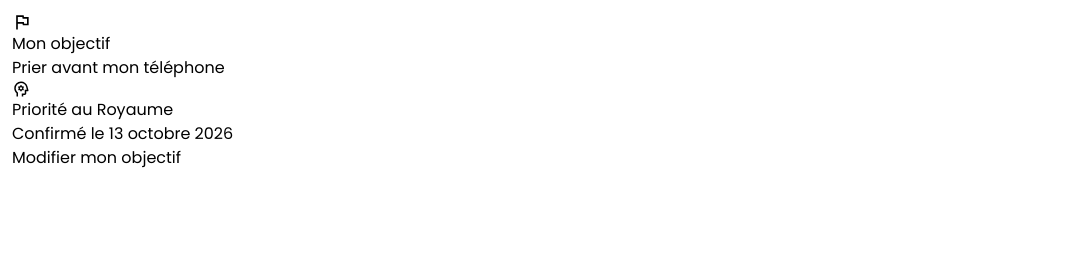
Test: Carte Mon objectif › objectif confirmé : affiché, modifiable
expect the text "Prier avant mon téléphone" is shown: met, box [12,56,225,79]
expect the text "Priorité au Royaume" is shown: met, box [12,80,173,121]
Click the button "Modifier mon objectif" at (96, 158), box [12,146,181,170]
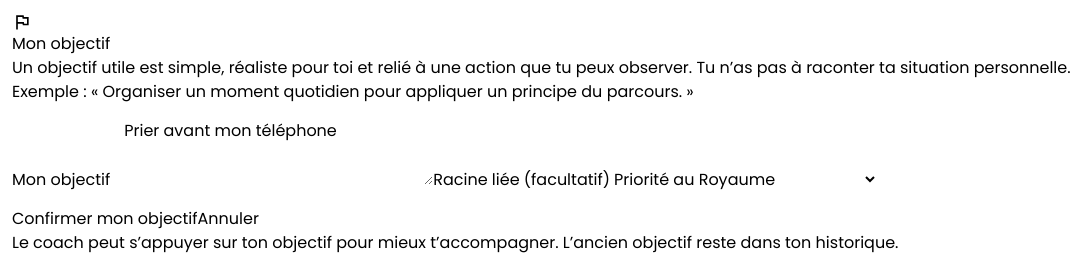
expect the text box labelled "Mon objectif" holds "Prier avant mon téléphone": met, box [110,104,433,185]
expect the text "L’ancien objectif reste dans ton historique" is shown: met, box [12,231,898,254]
